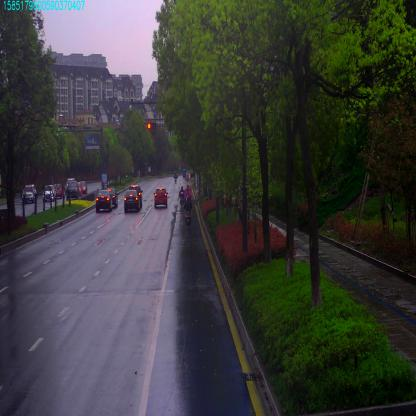traffic-light: (146, 121, 156, 129)
